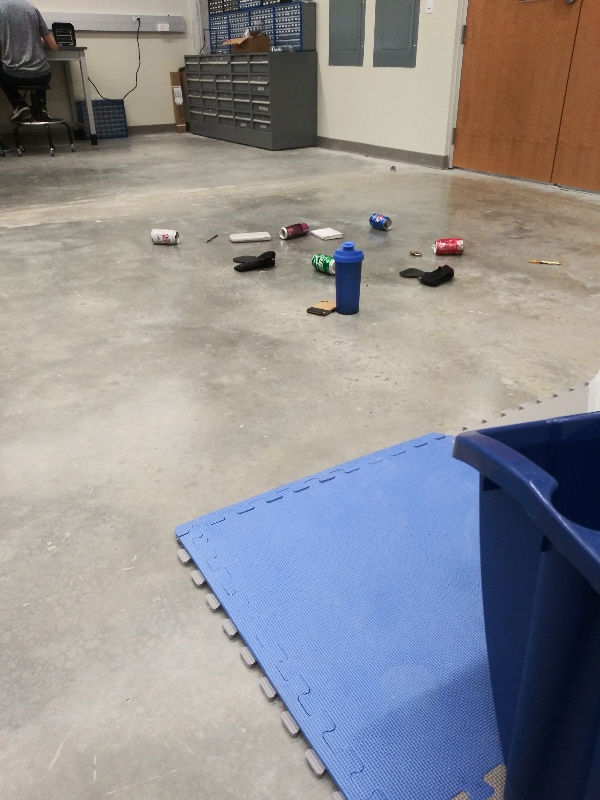can: (429, 238, 468, 258), (148, 228, 182, 248), (279, 221, 311, 241), (310, 253, 336, 275), (368, 212, 393, 232)
